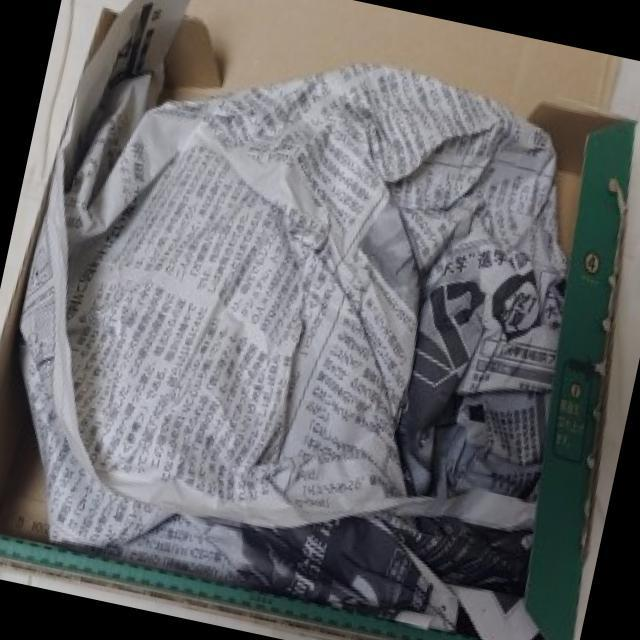reuseable_paper: (26, 66, 584, 638)
